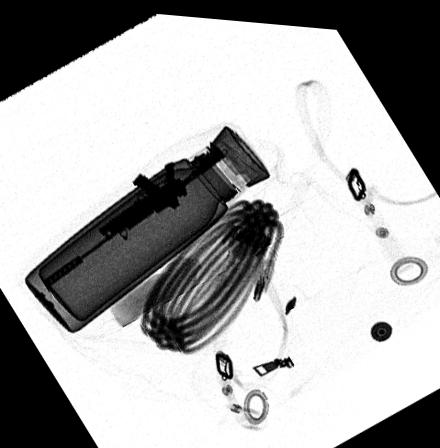Gun: (42, 135, 224, 286)
